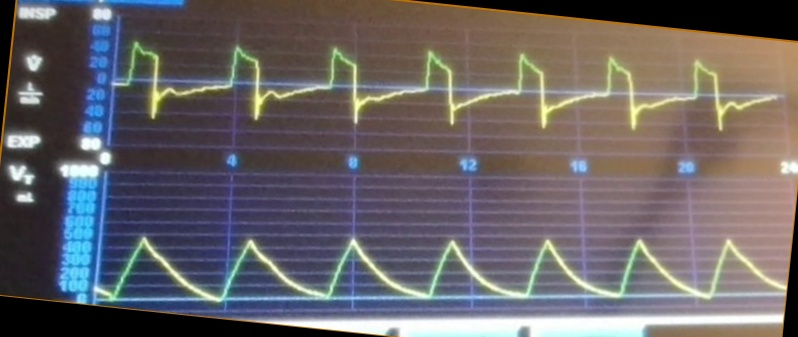Premature_cycling Flow: (120, 38, 778, 146)
Premature_cycling Volume: (104, 219, 782, 302)
